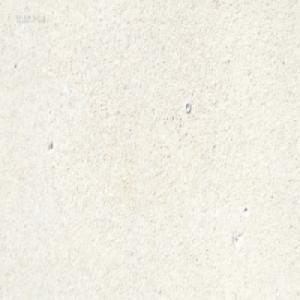Washer: (184, 101, 191, 115)
